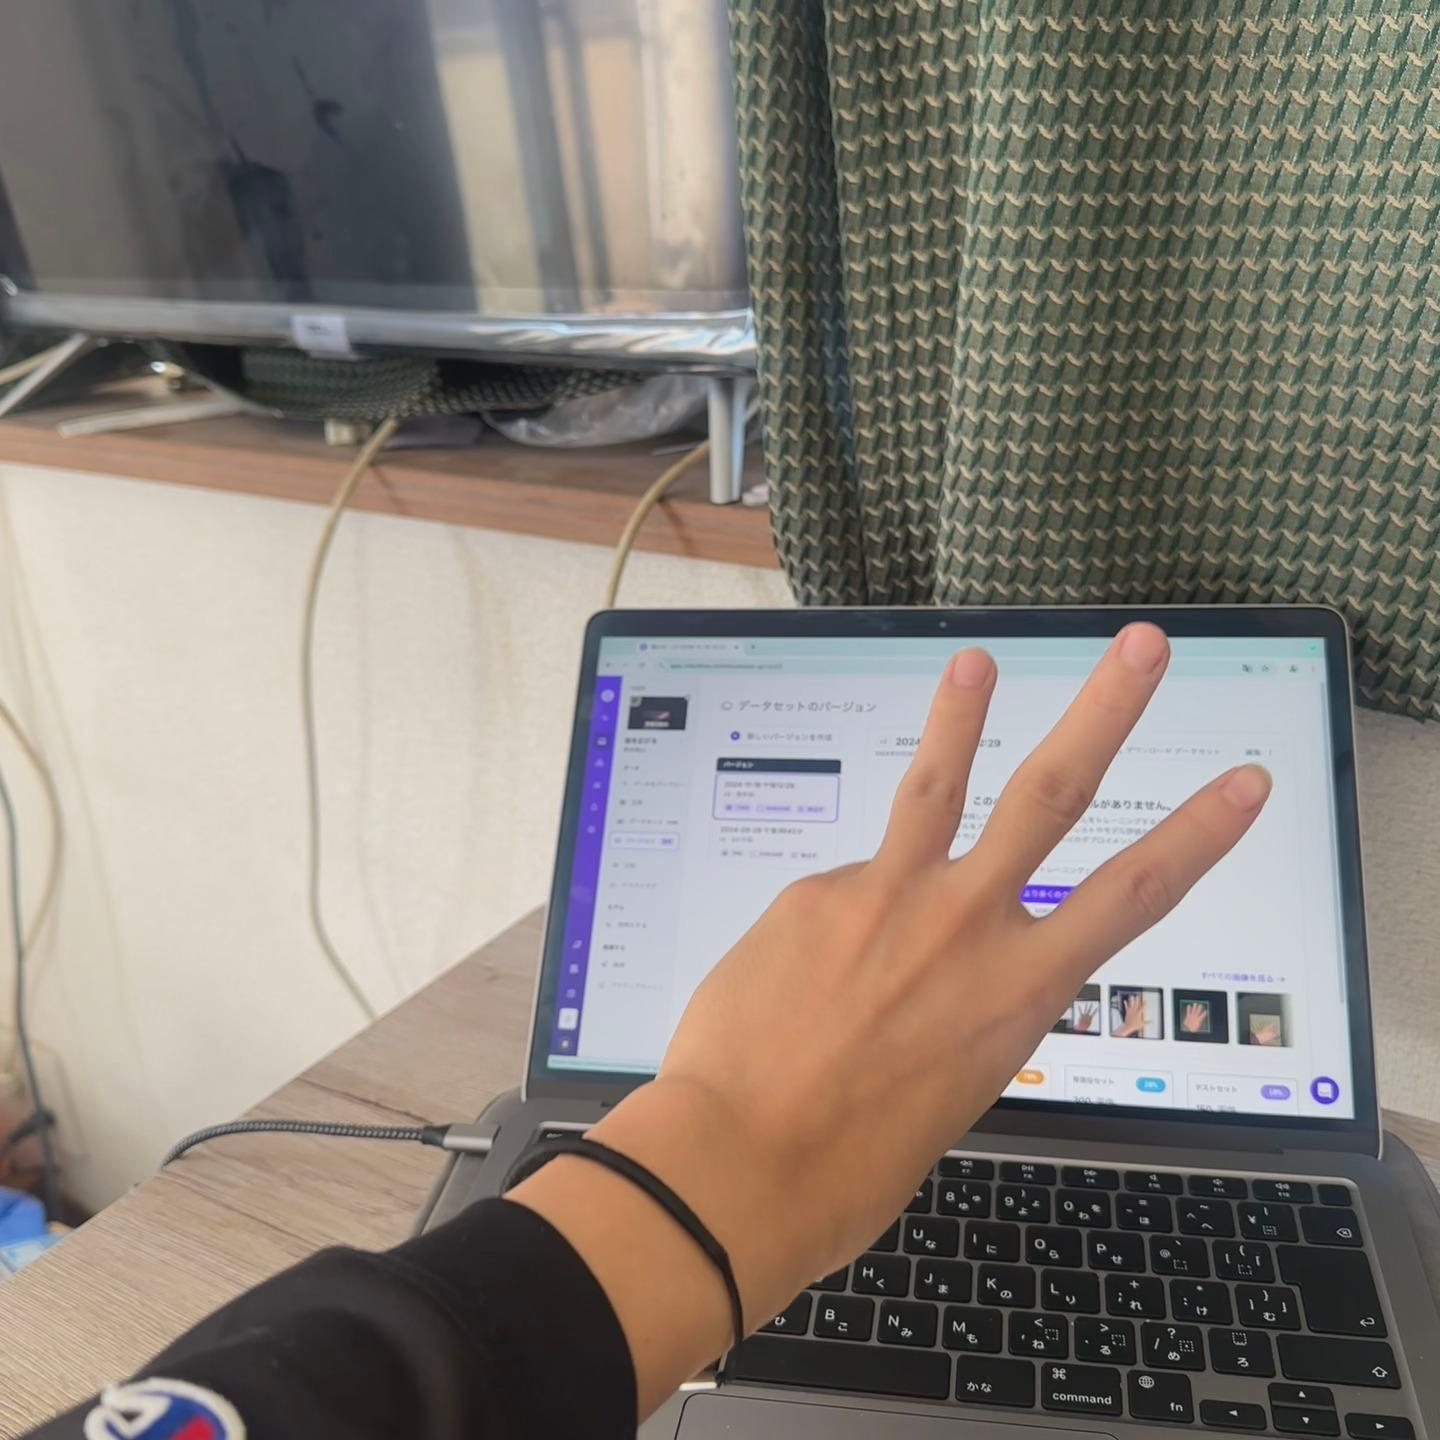without_gloves: (679, 551, 1365, 1357)
